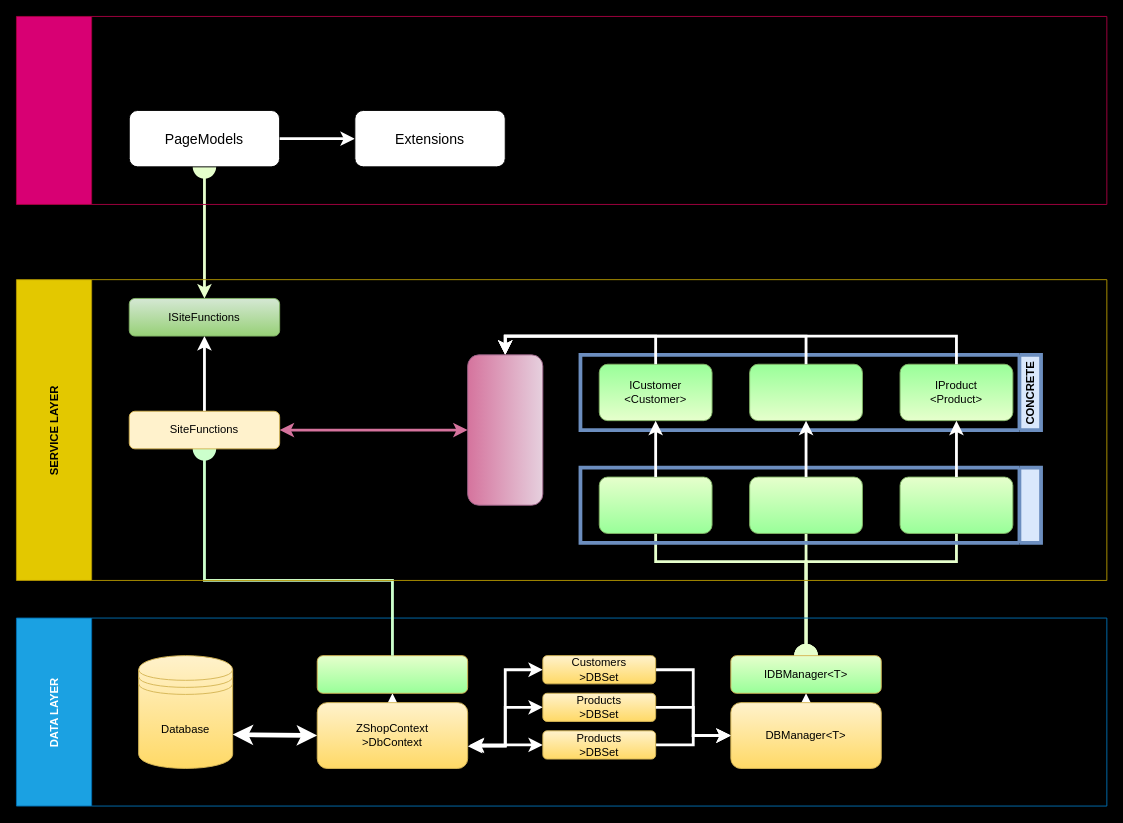
Some shapes in this 1123 by 823 pixel diagram are drawn without their labels. The box of each missing label's shape, as (x1, y1, x2, y2) in pixels:
DTO CONVERSINO: (467, 354, 543, 505)
IDBManager <Customer>: (598, 476, 712, 533)
IDBManager <Order>: (749, 476, 862, 533)
IDBManager <Product>: (899, 476, 1013, 533)
IOC: (578, 465, 1042, 544)
IOrder <Order>: (749, 363, 862, 421)
IZShopContext: (316, 655, 468, 693)
PRESENTATION LAYER: (16, 16, 1107, 204)
